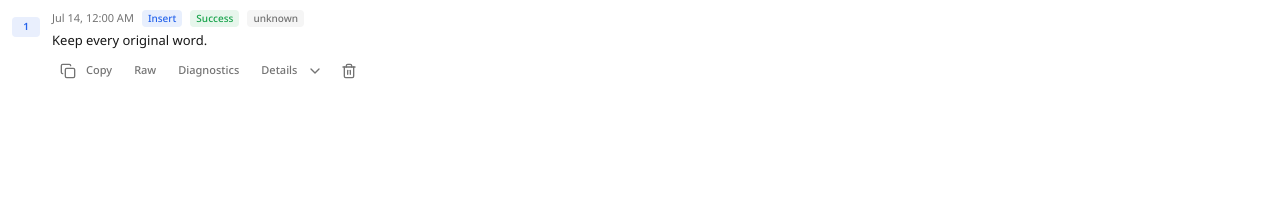
Test case: TranscriptionItem › describes an unchanged accepted retry without implying that wording was applied
Click the button "Details" at (292, 70), box top-left (253, 58), bottom-right (332, 82)
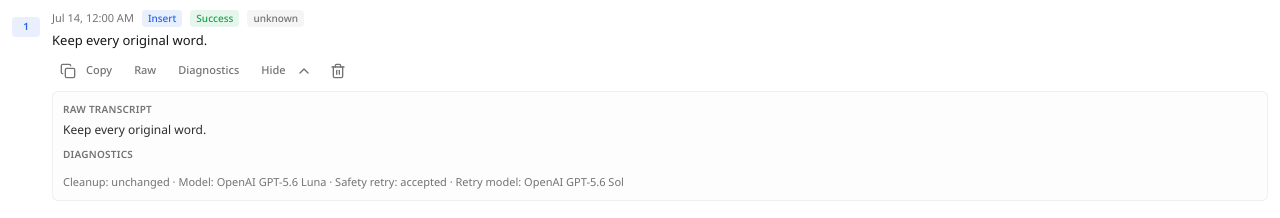
Expected: the text "Cleanup: unchanged" does not show "applied", top-left (63, 174), bottom-right (624, 188)
Now the text "Cleanup: unchanged" shows "Safety retry: accepted", box top-left (326, 174), bottom-right (447, 188)
Now the text "Cleanup: unchanged" shows "Retry model: OpenAI GPT-5.6 Sol", box top-left (447, 174), bottom-right (624, 188)
